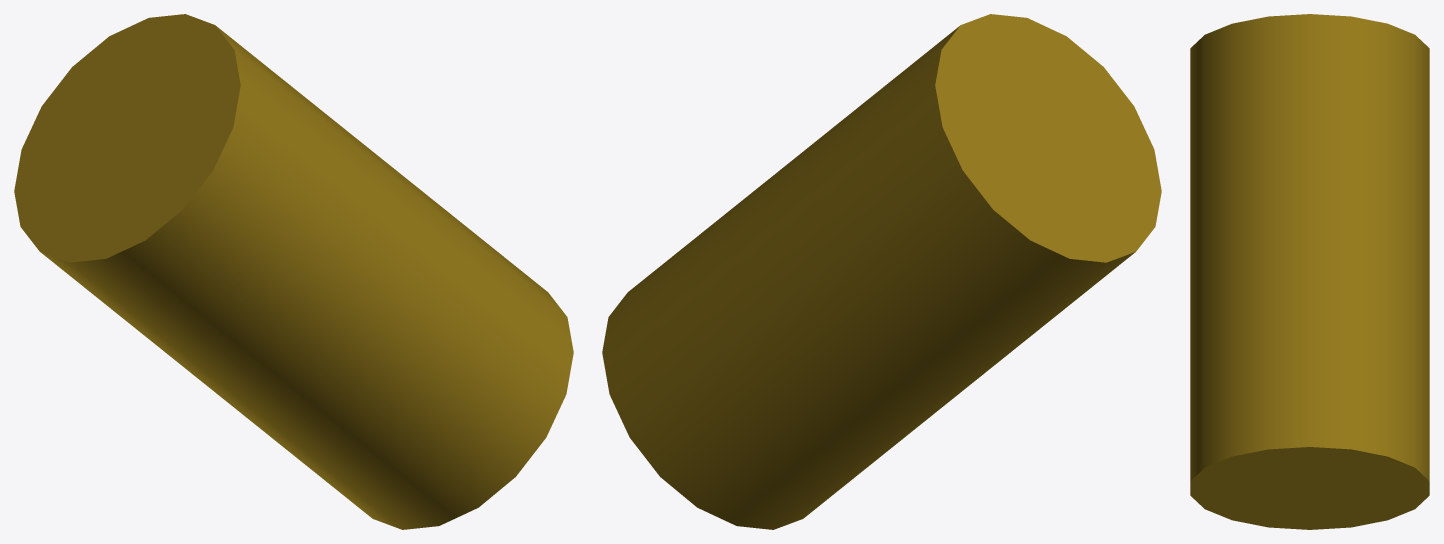
3 views of the same model, side by side, from view 1: azimuth 30°, elevation 25°; view 2: azimuth 150°, elevation 25°; view 3: azimuth 270°, elevation 25° (orthographic). The views are drawn at different scales.
Visible parts, largest first — view 1: Cylinder38-FACES.Mesh; view 2: Cylinder38-FACES.Mesh; view 3: Cylinder38-FACES.Mesh.
Part boxes in pixels (left/top/right/bottom): Cylinder38-FACES.Mesh: left=14, top=14, right=573, bottom=529; Cylinder38-FACES.Mesh: left=602, top=14, right=1161, bottom=529; Cylinder38-FACES.Mesh: left=1190, top=14, right=1429, bottom=529.
Size of the model in its own units: 0.0566 by 0.0566 by 0.0272.
